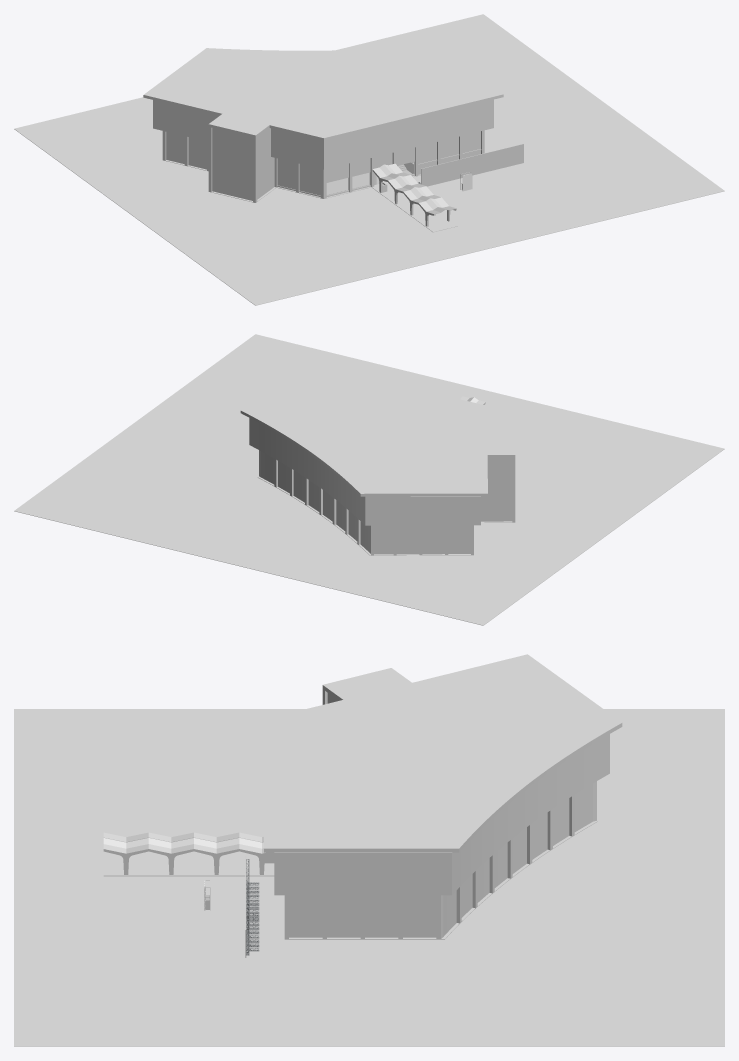
File: Environment_Visual.glb
3 views of the same model, one above another, from view 1: azimuth 30°, elevation 25°; view 2: azimuth 150°, elevation 25°; view 3: azimuth 270°, elevation 25° (orthographic). The views are drawn at different scales.
Visible parts, largest first — view 1: Object, Object.1236, Object.312; view 2: Object; view 3: Object, Object.2076.
Boxes of the visible parts, left/top/right/bottom form: Object: left=14, top=14, right=724, bottom=305; Object.1236: left=421, top=143, right=523, bottom=186; Object.312: left=327, top=162, right=413, bottom=194; Object: left=14, top=334, right=724, bottom=625; Object: left=14, top=654, right=724, bottom=1046; Object.2076: left=246, top=859, right=259, bottom=955.
Bounding box in the file's own units: 77.58 × 13.95 × 69.12.
6 materials, 6 textured.
